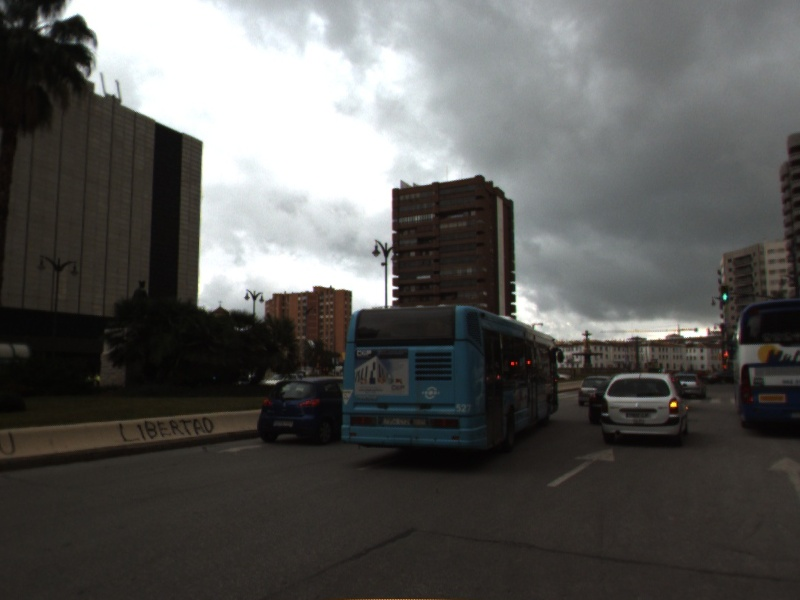STRAIGHT: (545, 446, 617, 490)
